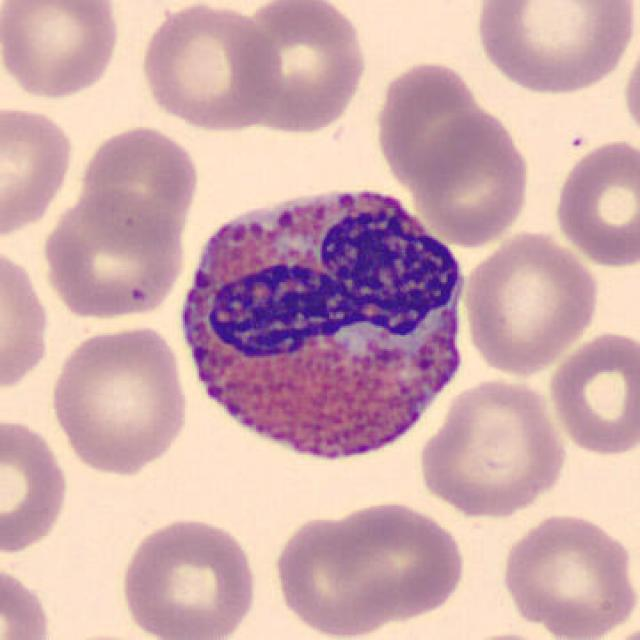Eosinophil: (167, 164, 482, 483)
RBC: (46, 321, 192, 478), (414, 376, 571, 520), (458, 228, 602, 378), (39, 188, 189, 322), (135, 0, 283, 132), (322, 497, 468, 626), (497, 509, 638, 640), (116, 513, 260, 640), (411, 105, 533, 248), (240, 2, 370, 136), (268, 510, 400, 638), (74, 122, 202, 252), (471, 0, 640, 97), (0, 0, 124, 102), (544, 326, 638, 458), (550, 136, 638, 270), (0, 100, 76, 241), (0, 414, 71, 557), (0, 238, 52, 402), (0, 560, 55, 640), (620, 26, 640, 150), (450, 629, 569, 640), (43, 629, 160, 640), (594, 617, 640, 640)
